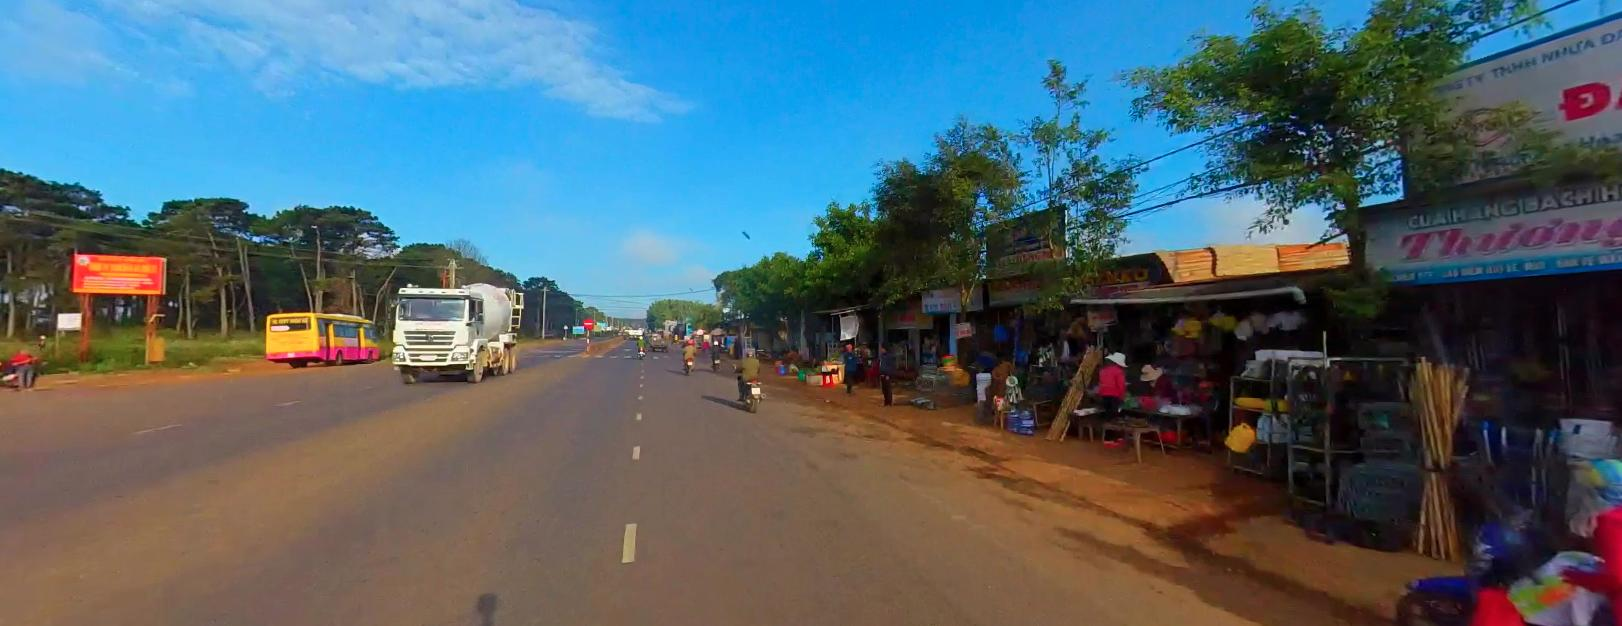Cam nguoc chieu: (582, 317, 593, 328)
